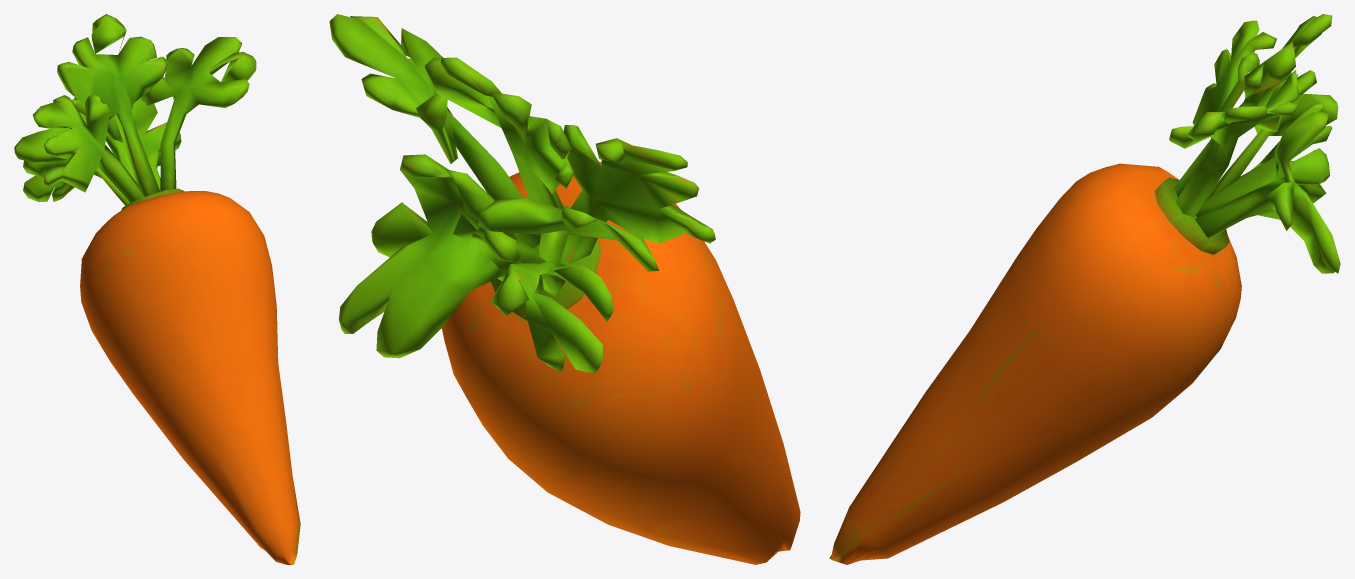
Rendered from carrot.glb.
3 views of the same model, side by side, from view 1: azimuth 30°, elevation 25°; view 2: azimuth 150°, elevation 25°; view 3: azimuth 270°, elevation 25° (orthographic). The views are drawn at different scales.
Size of the model in its own units: 0.5312 by 0.998 by 0.8496.
1 material, 1 textured.
